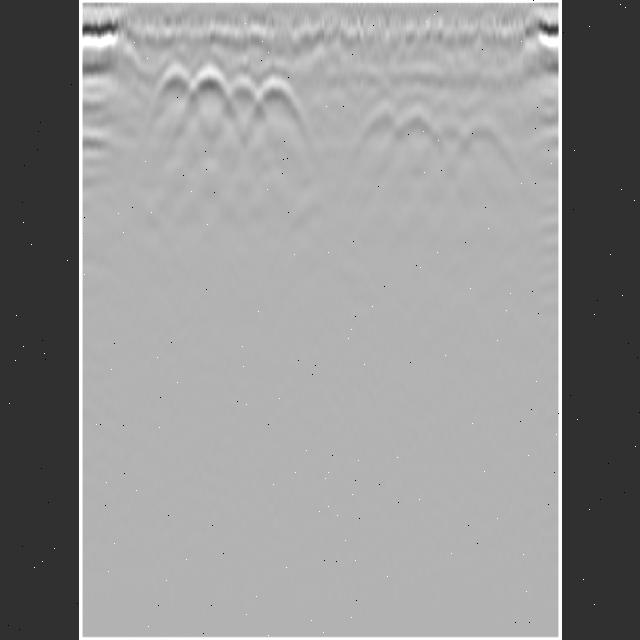hyperbola: (388, 98, 448, 154), (419, 112, 471, 164), (184, 64, 238, 112), (459, 111, 507, 161), (253, 72, 297, 120), (151, 58, 195, 98), (361, 96, 407, 130), (225, 72, 263, 110)
